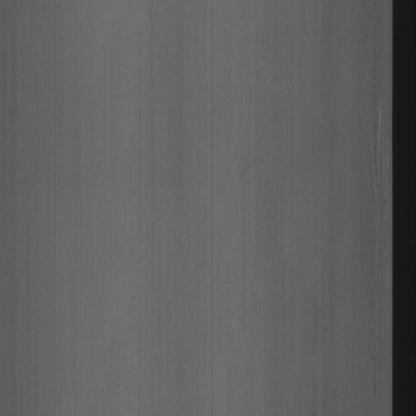silk_spot: (358, 100, 390, 210)
